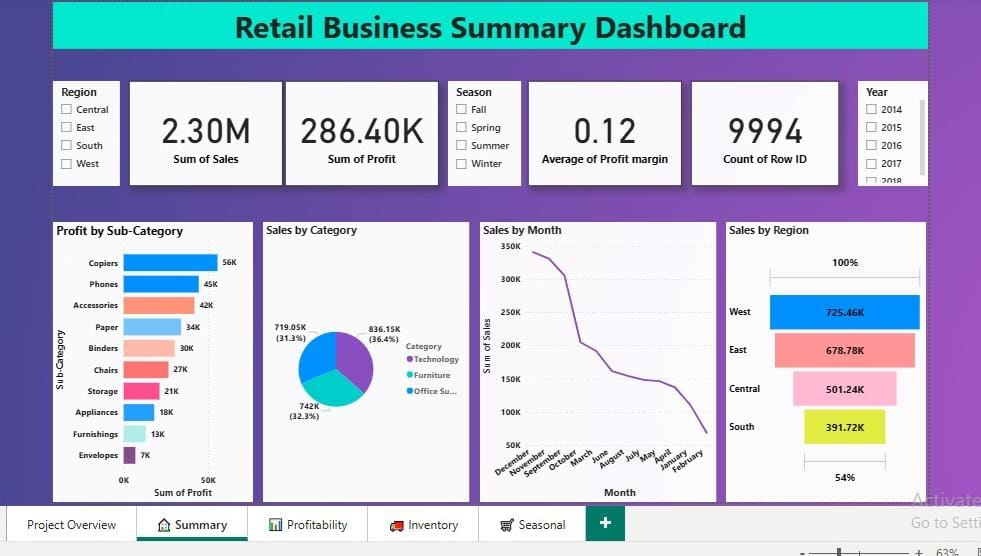

Layout of this report page (visuals, bound fields, positions):
{"tool":"powerbi","page":{"name":"🏠 Summary","canvas":[1400,800],"ordinal":1},"visuals":[{"type":"textbox","box":[0,0,1400,75.2],"z":0},{"type":"card","fields":{"Values":["Sum(Orders.Sales)"]},"box":[121.6,126.4,246.4,168],"z":1000},{"type":"card","fields":{"Values":["Sum(Orders.Profit)"]},"box":[371.2,126.4,246.4,168],"z":2000},{"type":"card","fields":{"Values":["Avg(Orders.Profit margin)"]},"box":[760,126.4,246.4,168],"z":3000},{"type":"pieChart","title":"Sales by Category","fields":{"Category":["Orders.Category"],"Y":["Sum(Orders.Sales)"]},"box":[336,352,329.6,448],"z":4000},{"type":"barChart","title":" Profit by Sub-Category","fields":{"Y":["Sum(Orders.Profit)"],"Category":["Orders.Sub-Category"]},"box":[0,352,320,448],"z":5000},{"type":"slicer","fields":{"Values":["Orders.Region"]},"box":[0,126.4,107.2,168],"z":6000},{"type":"slicer","fields":{"Values":["Orders.Season"]},"box":[632,126.4,116.8,168],"z":7000},{"type":"slicer","fields":{"Values":["Orders.Year"]},"box":[1288,126.4,112,168],"z":8000},{"type":"card","fields":{"Values":["CountNonNull(Orders.Row ID)"]},"box":[1020.8,126.4,236.8,168],"z":9000},{"type":"lineChart","title":" Sales by Month","fields":{"Category":["Orders.Month"],"Y":["Sum(Orders.Sales)"]},"box":[683.2,352,377.6,448],"z":10000},{"type":"funnel","title":" Sales by Region","fields":{"Category":["Orders.Region"],"Y":["Sum(Orders.Sales)"]},"box":[1076.8,352,320,448],"z":11000}]}

Visuals, with their boxes on the page's 1400x800 design canvas (x1, y1, x2, y2). These are canvas units, not pixel positions in the 981x556 screenshot, which may show the page scaled, cropped or inside an application window:
textbox: [left=0, top=0, right=1400, bottom=75]
card - Sum(Orders.Sales): [left=122, top=126, right=368, bottom=294]
card - Sum(Orders.Profit): [left=371, top=126, right=618, bottom=294]
card - Avg(Orders.Profit margin): [left=760, top=126, right=1006, bottom=294]
"Sales by Category" pieChart: [left=336, top=352, right=666, bottom=800]
" Profit by Sub-Category" barChart: [left=0, top=352, right=320, bottom=800]
slicer - Orders.Region: [left=0, top=126, right=107, bottom=294]
slicer - Orders.Season: [left=632, top=126, right=749, bottom=294]
slicer - Orders.Year: [left=1288, top=126, right=1400, bottom=294]
card - CountNonNull(Orders.Row ID): [left=1021, top=126, right=1258, bottom=294]
" Sales by Month" lineChart: [left=683, top=352, right=1061, bottom=800]
" Sales by Region" funnel: [left=1077, top=352, right=1397, bottom=800]
